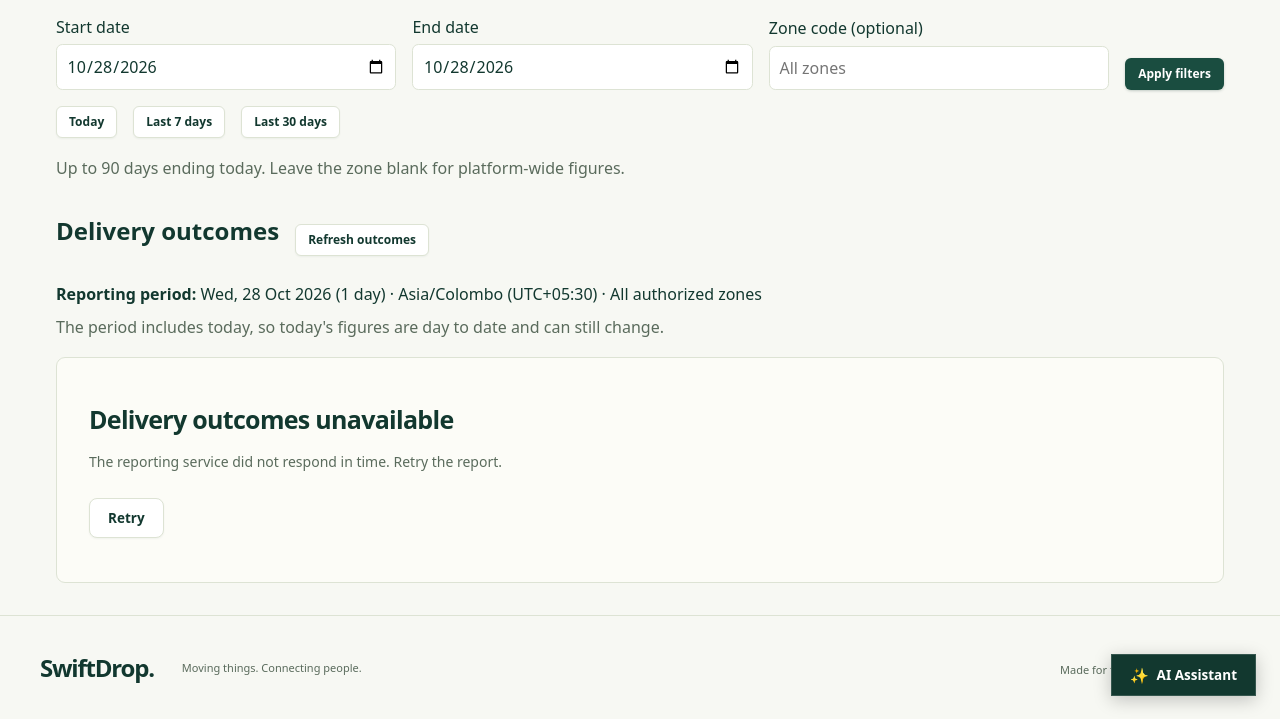
Test: admin daily outcomes and report screens › shows a timeout error with a retry that recovers without automatic replay
(page scrolled)
Expected: the element "Delivery outcomes unavailable" shows "did not respond in time", [89,452,502,470]
Click the button "Retry". click: coordinates (126, 518)
box: [89,498,164,538]
(page scrolled)
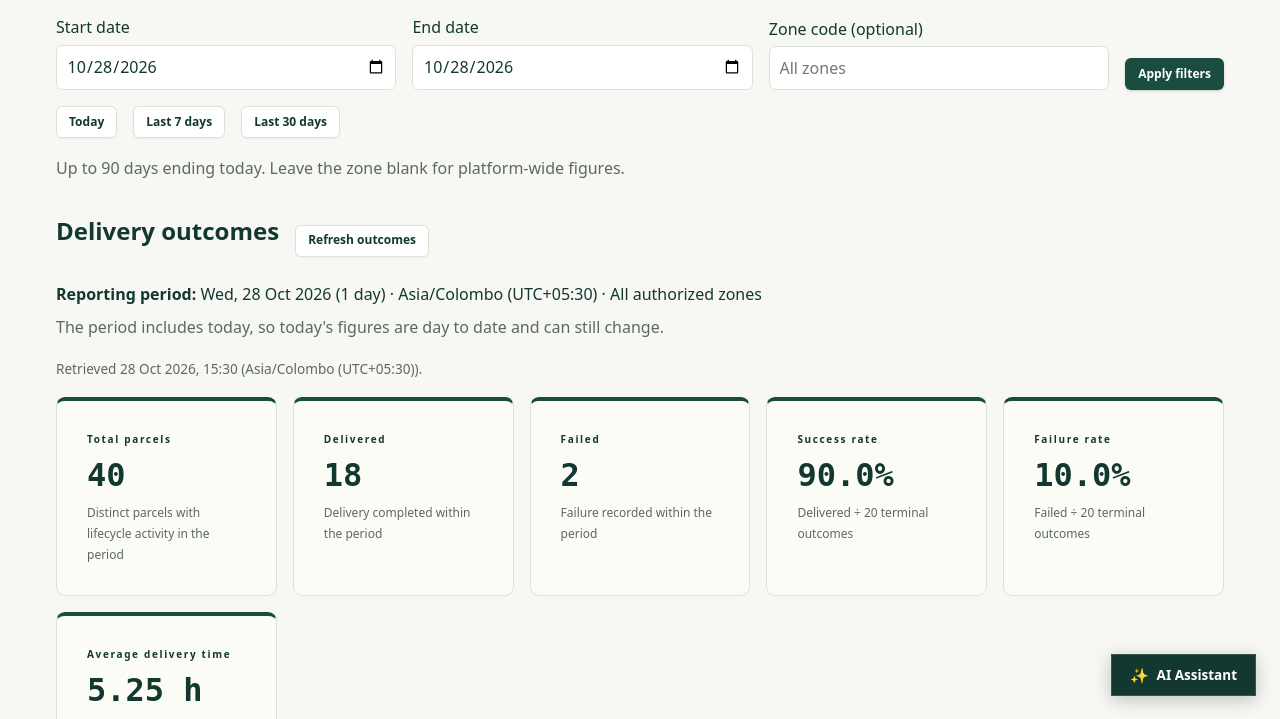
Expected: the text "90.0%" is shown, [797,456,894,494]
